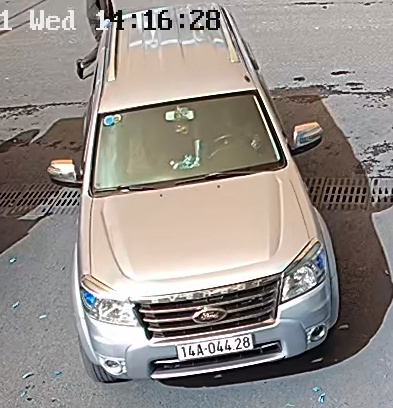vehicle plate: (166, 334, 260, 361)
